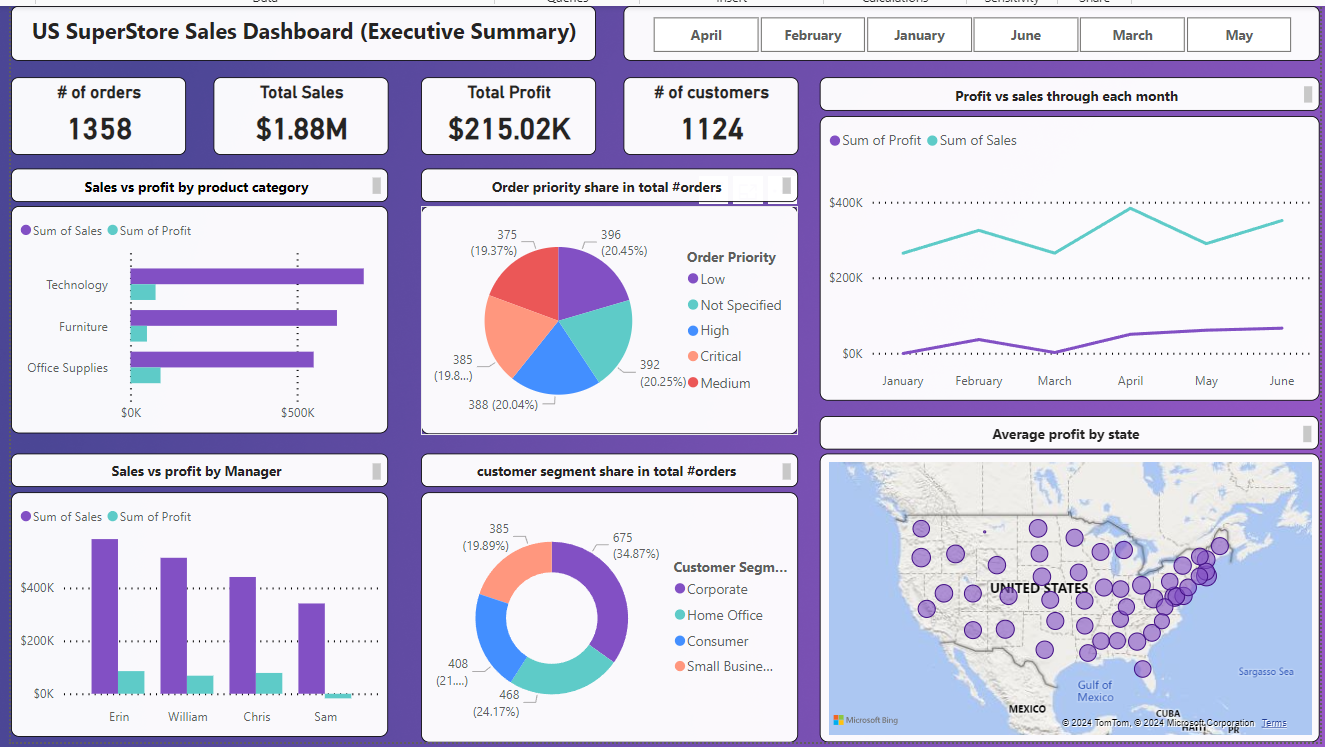

This screenshot's page, from the dashboard's own definition file:
{"tool":"powerbi","page":{"name":"Page 1","canvas":[1280,720],"ordinal":0},"visuals":[{"type":"lineChart","title":"Profit vs Sales through each month","fields":{"Category":["DataSheet.Order Date.Variation.Date Hierarchy.Month"],"Y":["DataSheet.Profit","DataSheet.Sales"]},"box":[790.9,107.6,489,278.7],"z":0},{"type":"map","fields":{"Category":["DataSheet.State or Province"],"Size":["DataSheet.Profit"]},"box":[790.9,437.6,489,282.4],"z":1000},{"type":"clusteredColumnChart","fields":{"Category":["DataSheet.Manager"],"Y":["DataSheet.Sales","DataSheet.Profit"]},"box":[0,475.5,369.2,239.6],"z":2000},{"type":"clusteredBarChart","fields":{"Y":["DataSheet.Sales","DataSheet.Profit"],"Category":["DataSheet.Product Category"]},"box":[0,195.6,369.2,222.5],"z":3000},{"type":"donutChart","fields":{"Category":["DataSheet.Customer Segment"],"Y":["DataSheet.Order ID"]},"box":[401,475.5,369.2,244.5],"z":4000},{"type":"pieChart","fields":{"Category":["DataSheet.Order Priority"],"Y":["DataSheet.Order ID"]},"box":[401,196,369.2,223],"z":5000},{"type":"slicer","fields":{"Values":["DataSheet.Month"]},"box":[599,0,680.9,53.8],"z":6000},{"type":"card","title":"# of orders","fields":{"Values":["DataSheet.Order ID"]},"box":[0,69.7,171.1,75.8],"z":7000},{"type":"card","title":"Total Sales","fields":{"Values":["DataSheet.Sales"]},"box":[198,69.7,171.1,75.8],"z":8000},{"type":"card","title":"Total Profit","fields":{"Values":["DataSheet.Profit"]},"box":[401,69.7,171.1,75.8],"z":9000},{"type":"card","title":"# of customers","fields":{"Values":["DataSheet.Customer ID"]},"box":[599,69.7,171.1,75.8],"z":10000},{"type":"textbox","box":[0,0,572.1,53.8],"z":11000},{"type":"textbox","box":[0,158.9,369.2,33],"z":12000},{"type":"textbox","box":[401,158.9,369.2,33],"z":13000},{"type":"textbox","box":[0,437.6,369.2,33],"z":14000},{"type":"textbox","box":[401,437.6,369.2,33],"z":15000},{"type":"textbox","box":[790.9,69.7,489,33],"z":16000},{"type":"textbox","box":[790.9,401,487.7,33],"z":17000}]}

Visuals, with their boxes in screenshot pixels (x1, y1, x2, y2):
"Profit vs Sales through each month" lineChart: Rect(814, 113, 1313, 398)
map - DataSheet.State or Province x DataSheet.Profit: Rect(814, 450, 1313, 738)
clusteredColumnChart - DataSheet.Manager x DataSheet.Sales: Rect(7, 489, 384, 733)
clusteredBarChart - DataSheet.Sales x DataSheet.Profit: Rect(7, 203, 384, 430)
donutChart - DataSheet.Customer Segment x DataSheet.Order ID: Rect(416, 489, 793, 738)
pieChart - DataSheet.Order Priority x DataSheet.Order ID: Rect(416, 204, 793, 431)
slicer - DataSheet.Month: Rect(618, 3, 1313, 58)
"# of orders" card: Rect(7, 75, 182, 152)
"Total Sales" card: Rect(209, 75, 384, 152)
"Total Profit" card: Rect(416, 75, 591, 152)
"# of customers" card: Rect(618, 75, 793, 152)
textbox: Rect(7, 3, 591, 58)
textbox: Rect(7, 166, 384, 199)
textbox: Rect(416, 166, 793, 199)
textbox: Rect(7, 450, 384, 484)
textbox: Rect(416, 450, 793, 484)
textbox: Rect(814, 75, 1313, 108)
textbox: Rect(814, 413, 1312, 446)
